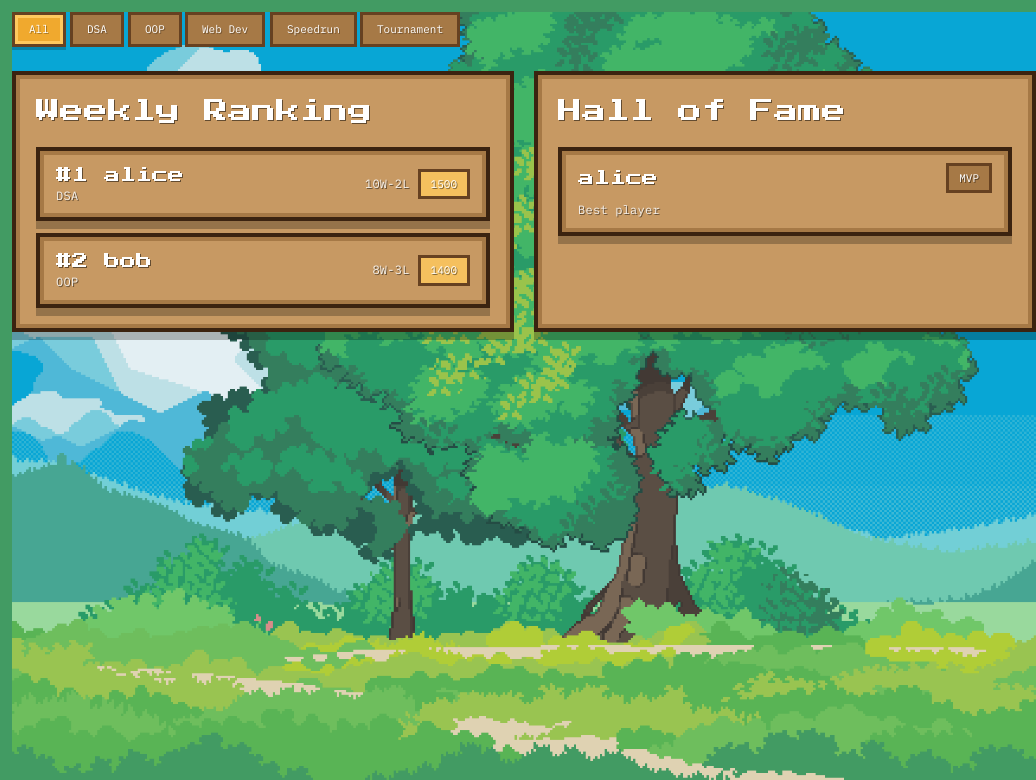
Test case: LeaderboardFilters › shows empty state for category with no entries
The width and height of the screenshot is (1036, 780).
Check: the text "#1 alice" is shown, box [56,162,184,186]
Click the button "OOP".
click(154, 29)  # box [128,12,181,46]
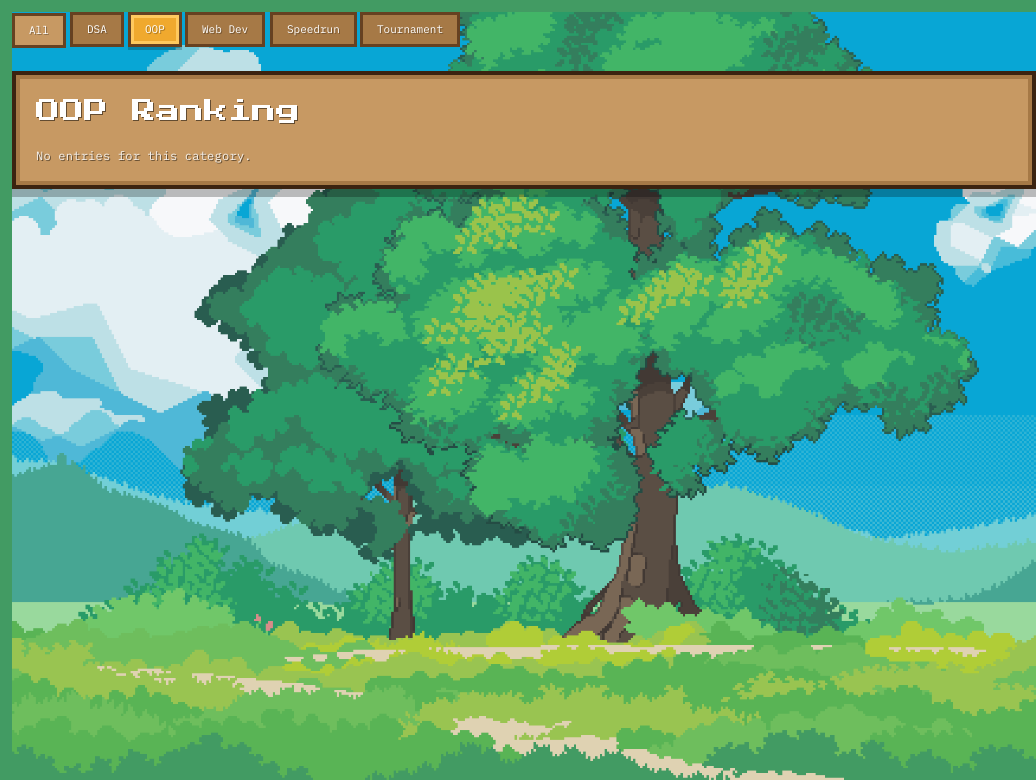
Check: the text "No entries for this category." is shown, box [36,148,252,162]
